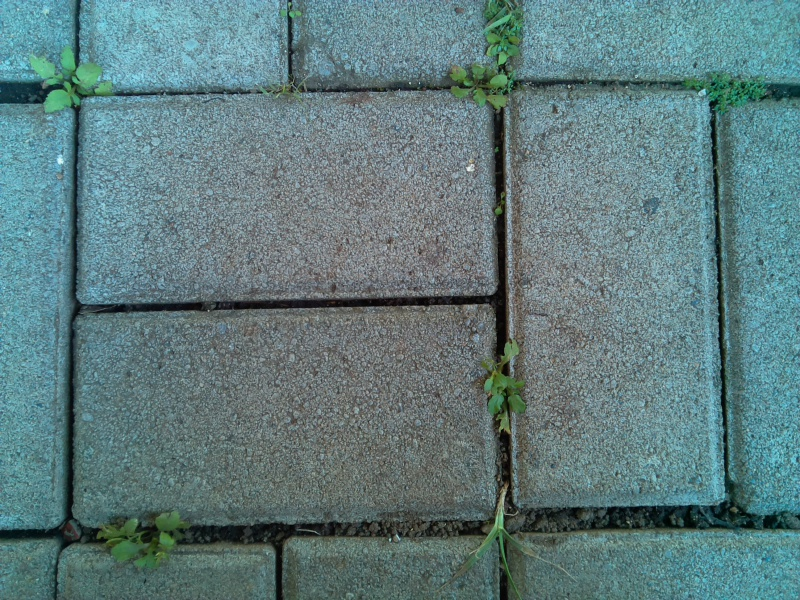Weed: (464, 478, 539, 581), (23, 47, 119, 116), (469, 334, 532, 438), (93, 507, 191, 570), (479, 1, 543, 75), (682, 61, 776, 111), (440, 58, 522, 113), (258, 68, 322, 113), (484, 185, 526, 222), (274, 2, 315, 29)
